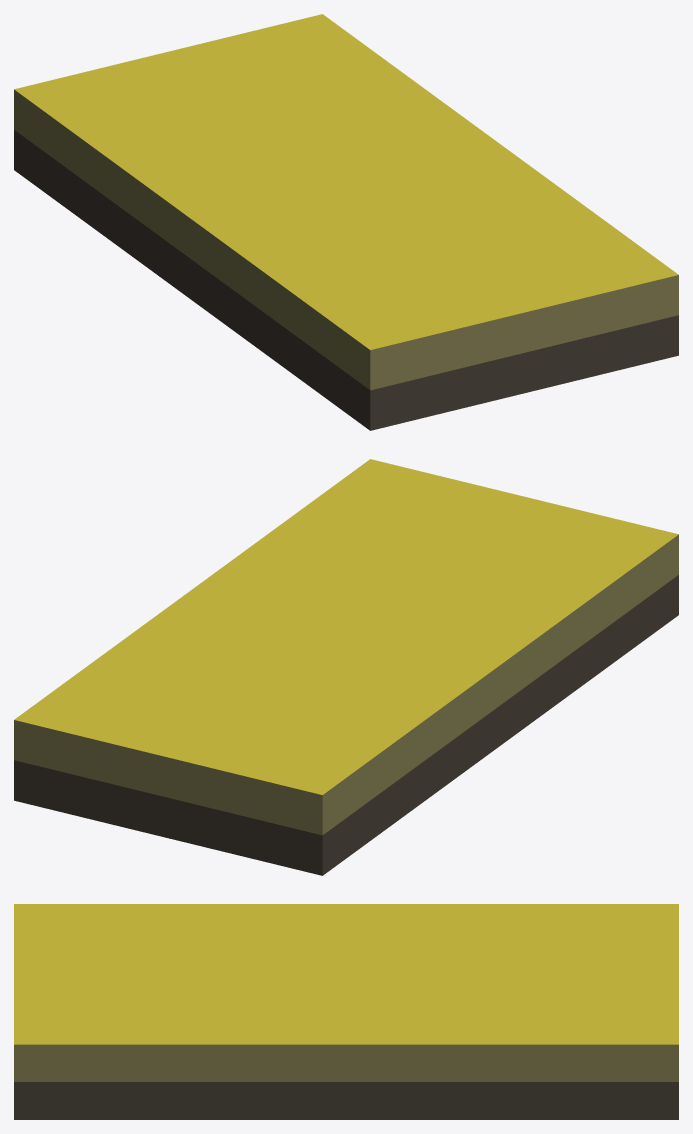
The model's file is tile1_2 full.fbx.
3 views of the same model, one above another, from view 1: azimuth 30°, elevation 25°; view 2: azimuth 150°, elevation 25°; view 3: azimuth 270°, elevation 25° (orthographic). The views are drawn at different scales.
Parts seen in each view (by area): view 1: Cube; view 2: Cube; view 3: Cube.
Part boxes in pixels (x1,y1,x2,y2): Cube: (14, 14, 678, 430); Cube: (14, 459, 678, 875); Cube: (14, 904, 678, 1119).
Size of the model in its own units: 200 by 50 by 400.
1 material, 1 textured.
